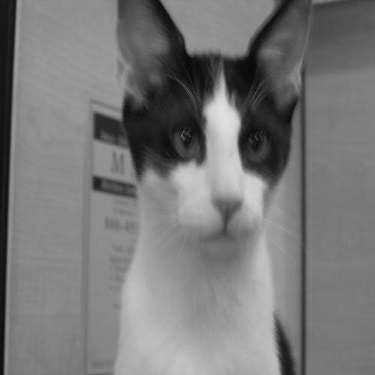cat: (109, 1, 312, 371)
